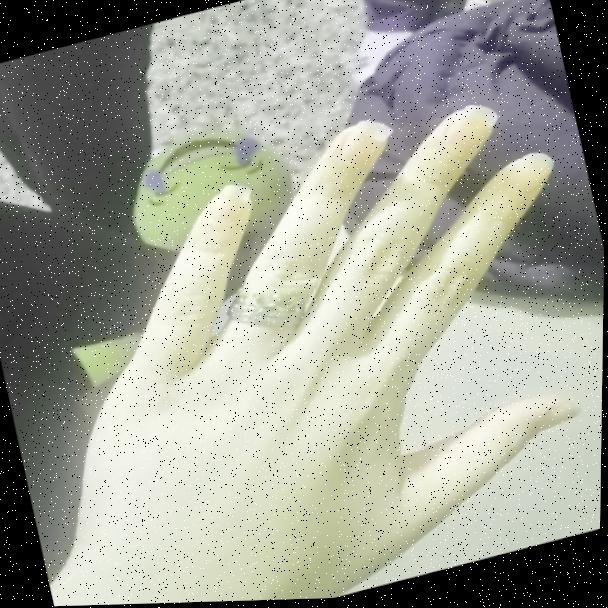five: (64, 74, 607, 606)
